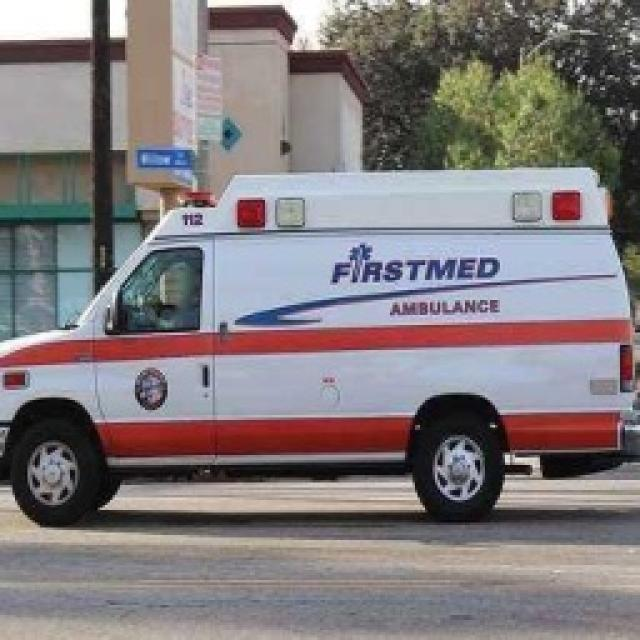ambulance: (0, 170, 632, 525)
